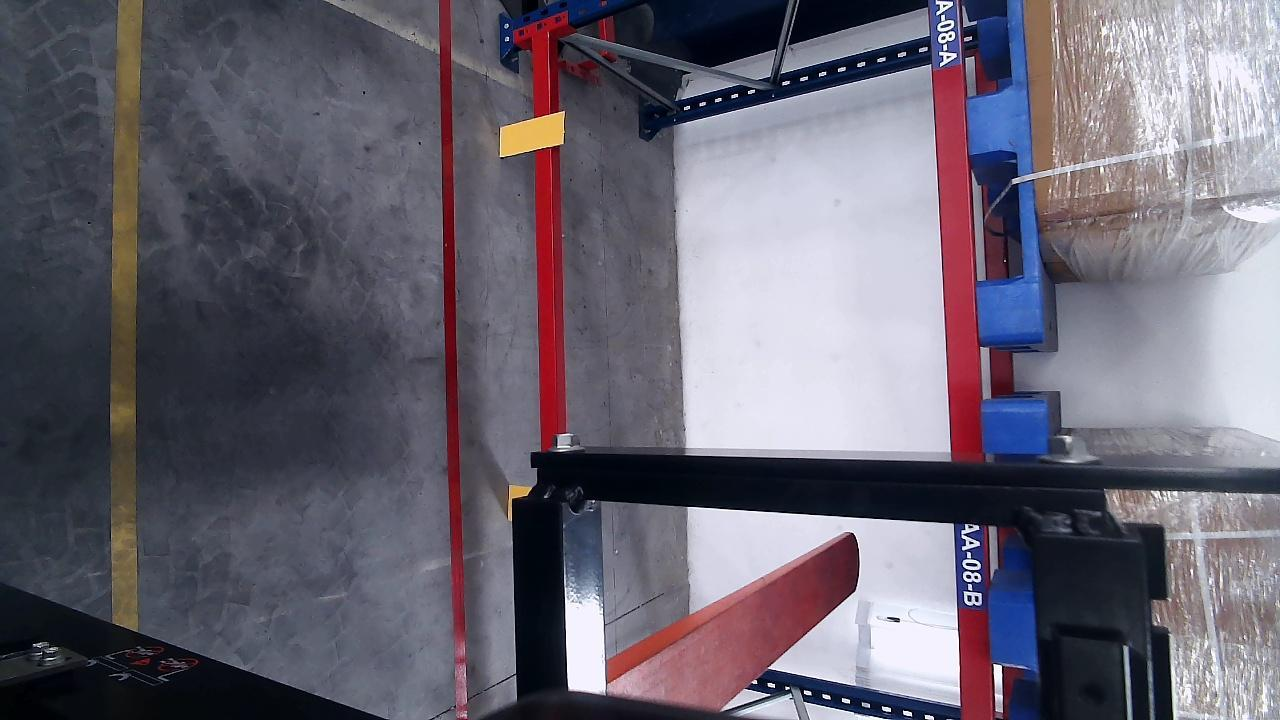h_rack: (929, 2, 998, 718), (528, 32, 565, 435)
orange_strip: (500, 112, 565, 158)
red_line: (439, 1, 474, 720)
yellow_line: (109, 0, 146, 627)
